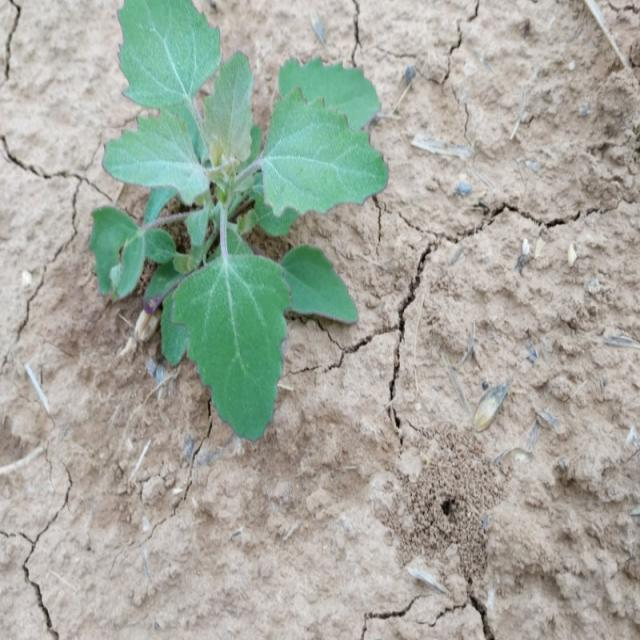goosefoots: (68, 3, 386, 399)
